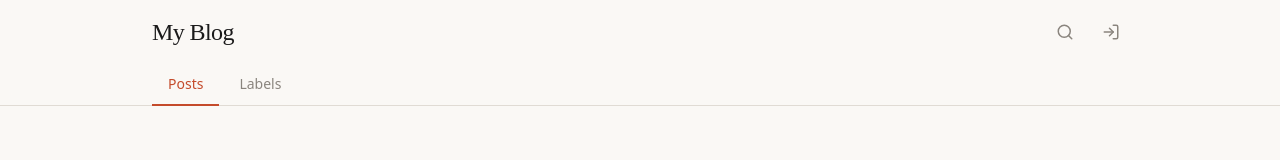
Scenario: Header › opens search on click
This screenshot has width=1280, height=160.
What coordinates should you click on to do the following:
click the button named "Search"
I would click on:
 (1065, 32)
Its box is [1048,15,1082,49].
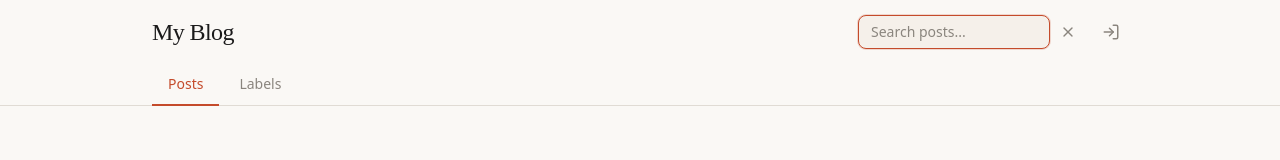
Expected: the field with placeholder "Search posts..." is shown, [858,15,1050,49]
